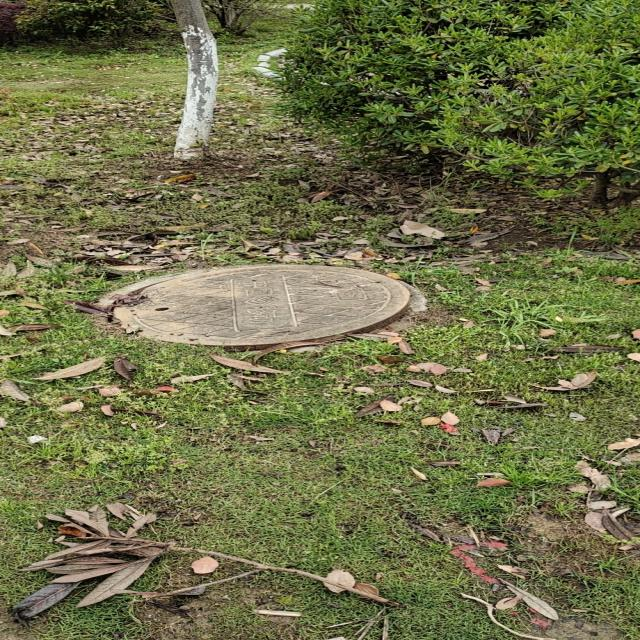Lose: (92, 266, 430, 350)
